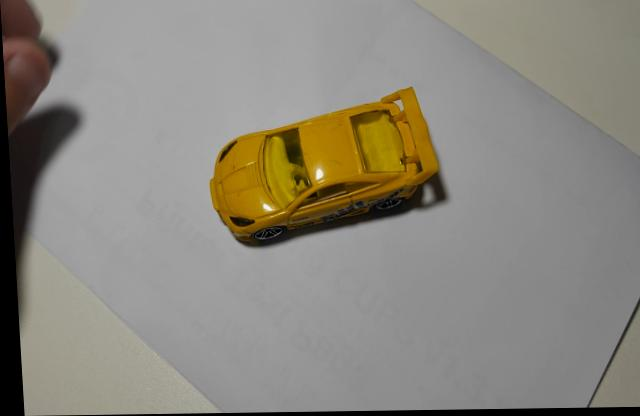07_RHLTURBO: (208, 90, 438, 250)
